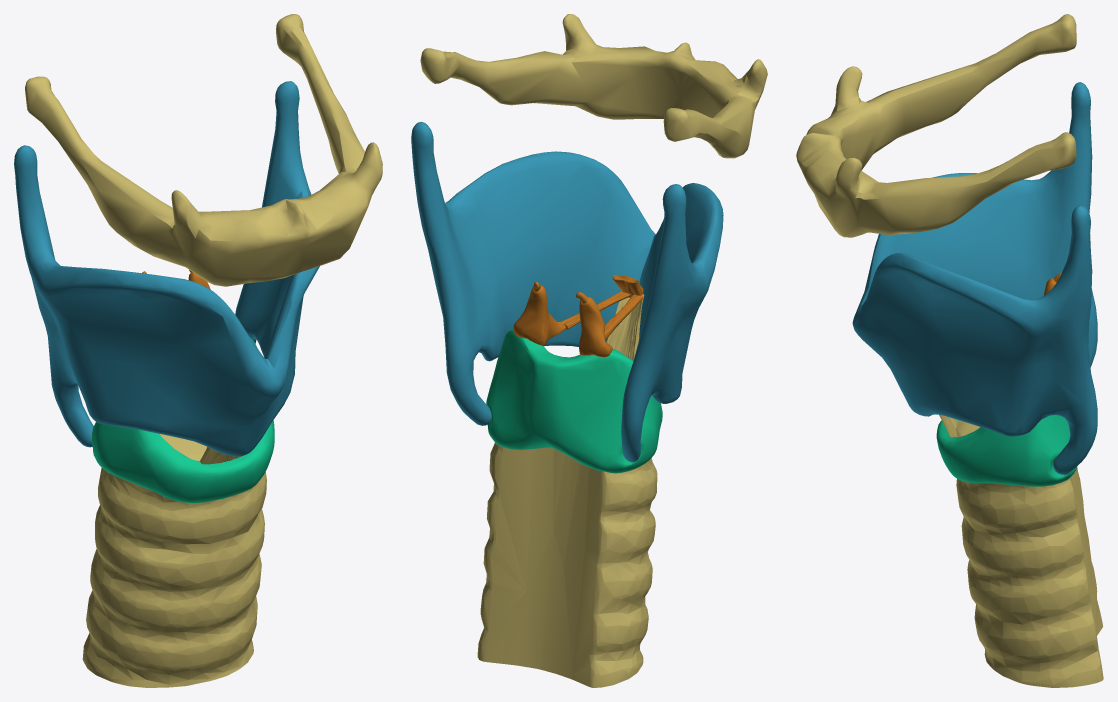
The model's file is fbx_frame_0036.obj.
3 renders of one model, left to right at view 1: azimuth 30°, elevation 25°; view 2: azimuth 150°, elevation 25°; view 3: azimuth 270°, elevation 25°, orthographic. The views are drawn at different scales.
Visible parts, largest first — view 1: maya2sketchfab.010, maya2sketchfab.001, maya2sketchfab.011, maya2sketchfab.005; view 2: maya2sketchfab.010, maya2sketchfab.001, maya2sketchfab.011, maya2sketchfab.005, maya2sketchfab.006, maya2sketchfab.004; view 3: maya2sketchfab.010, maya2sketchfab.001, maya2sketchfab.011, maya2sketchfab.005.
Part boxes in pixels (bbox=[...]): maya2sketchfab.010: bbox=[14, 81, 319, 456]; maya2sketchfab.001: bbox=[82, 434, 266, 687]; maya2sketchfab.011: bbox=[25, 14, 382, 286]; maya2sketchfab.005: bbox=[92, 337, 274, 503]; maya2sketchfab.010: bbox=[411, 121, 723, 462]; maya2sketchfab.001: bbox=[477, 294, 657, 687]; maya2sketchfab.011: bbox=[420, 14, 767, 158]; maya2sketchfab.005: bbox=[486, 329, 662, 473]; maya2sketchfab.006: bbox=[513, 282, 566, 345]; maya2sketchfab.004: bbox=[576, 292, 612, 357]; maya2sketchfab.010: bbox=[852, 82, 1097, 474]; maya2sketchfab.001: bbox=[939, 415, 1103, 687]; maya2sketchfab.011: bbox=[796, 14, 1076, 237]; maya2sketchfab.005: bbox=[936, 415, 1077, 486].
Size of the model in its own units: 38.66 by 78.6 by 37.95.
